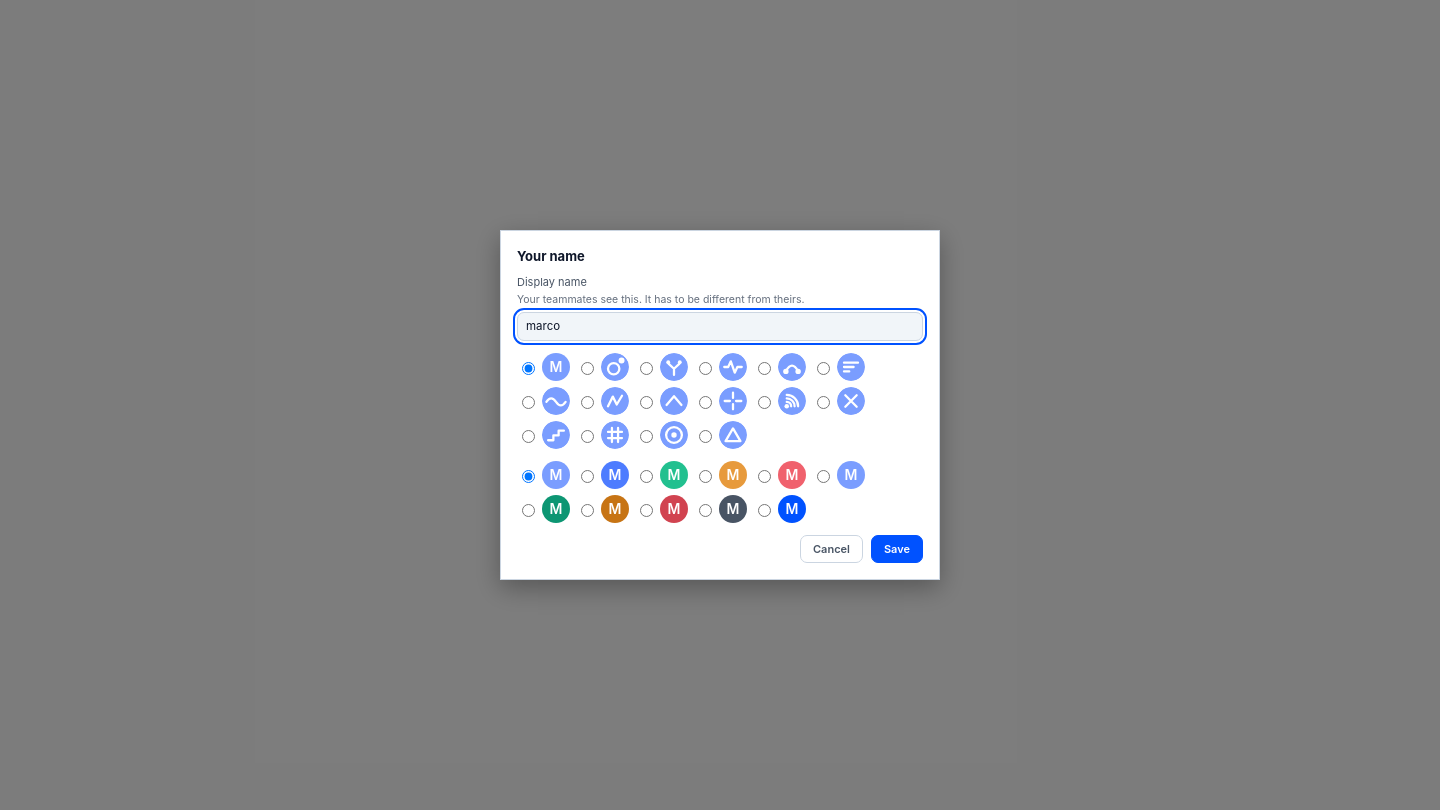
Test: IdentityDialog › keeps the dialog open and shows the reason when the name is taken
Replace the text in the field labelled "Display name" with "nina": (720, 326) [517, 312, 923, 341]
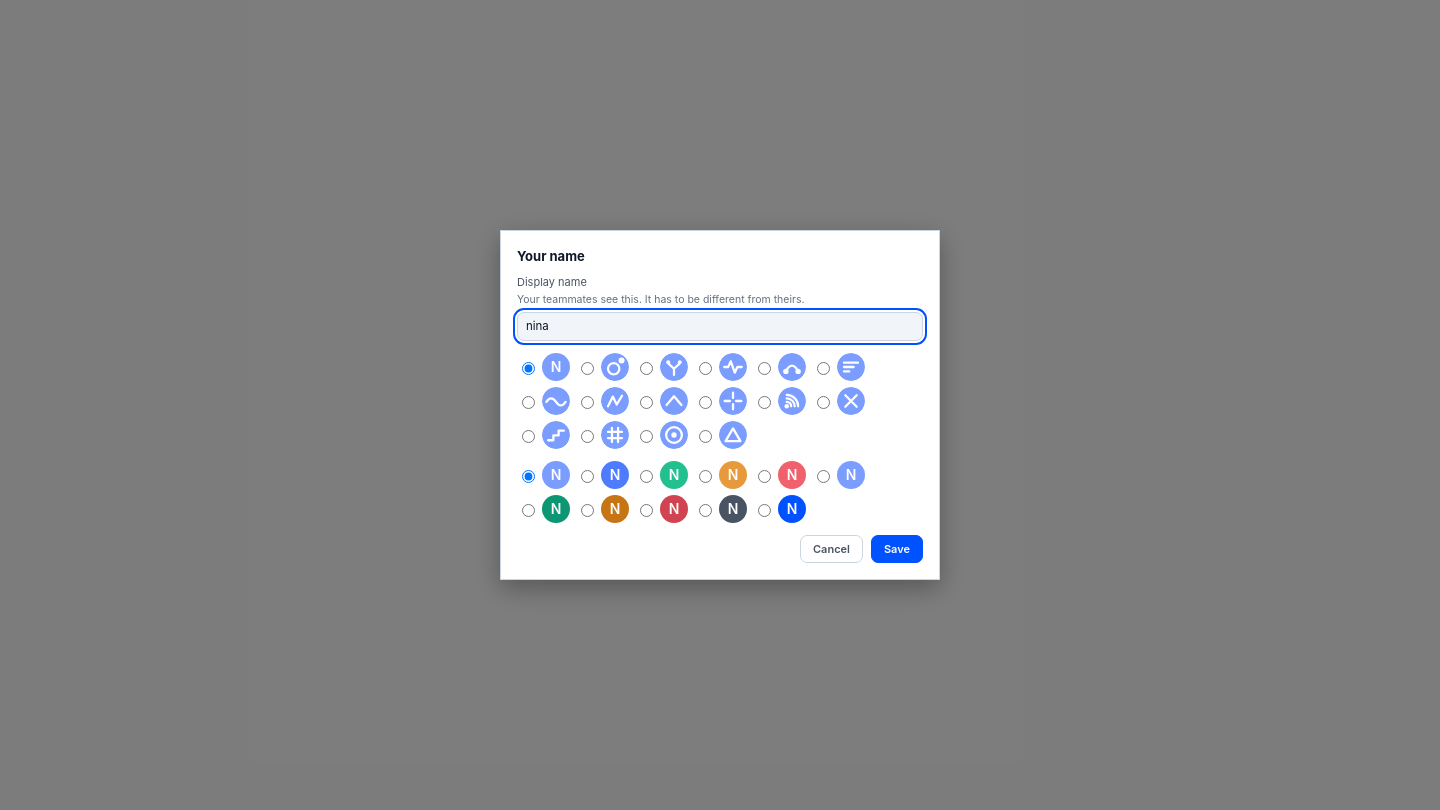
Click the button "Save": (897, 549) [871, 535, 923, 563]
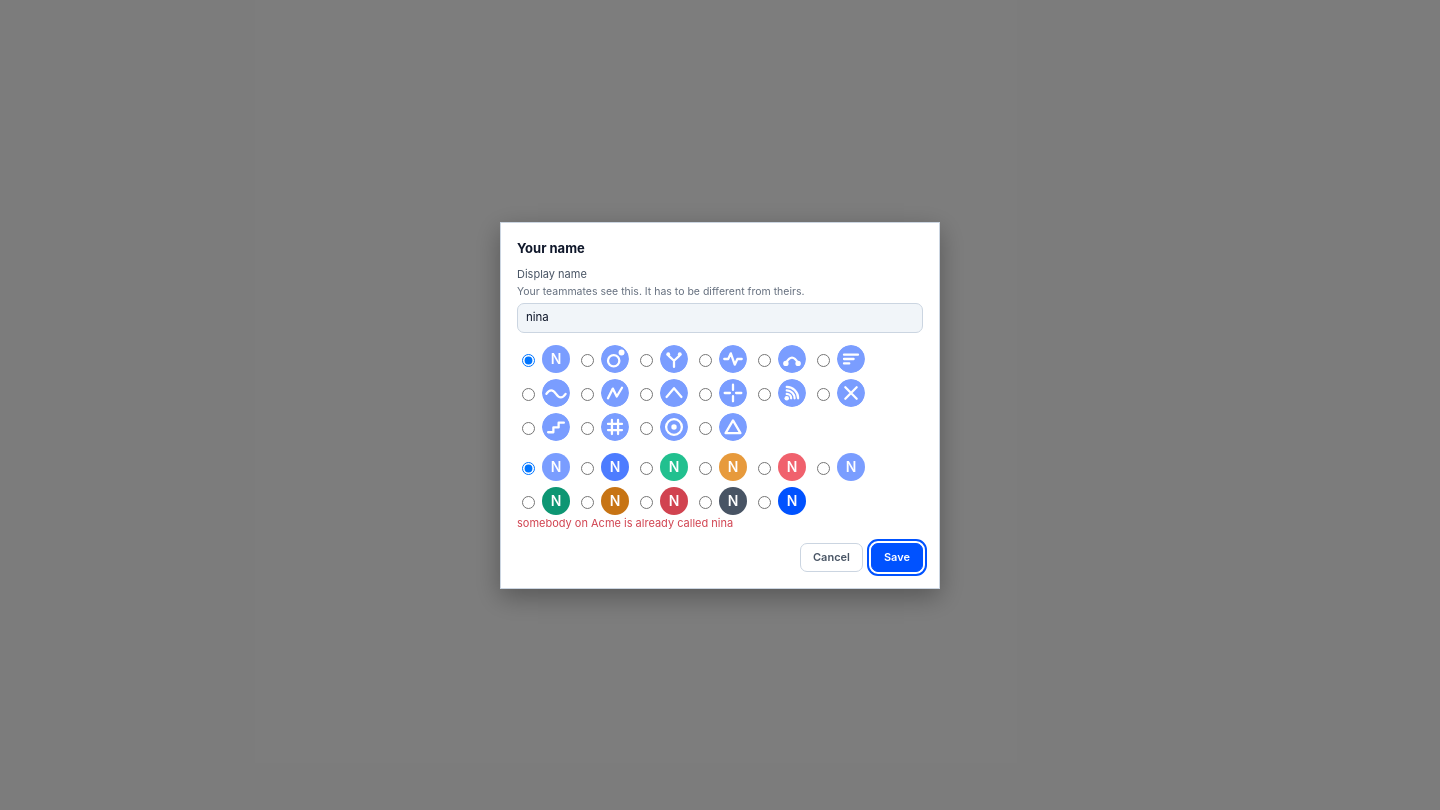
Check: the message shows "already called nina", box [517, 516, 733, 530]
